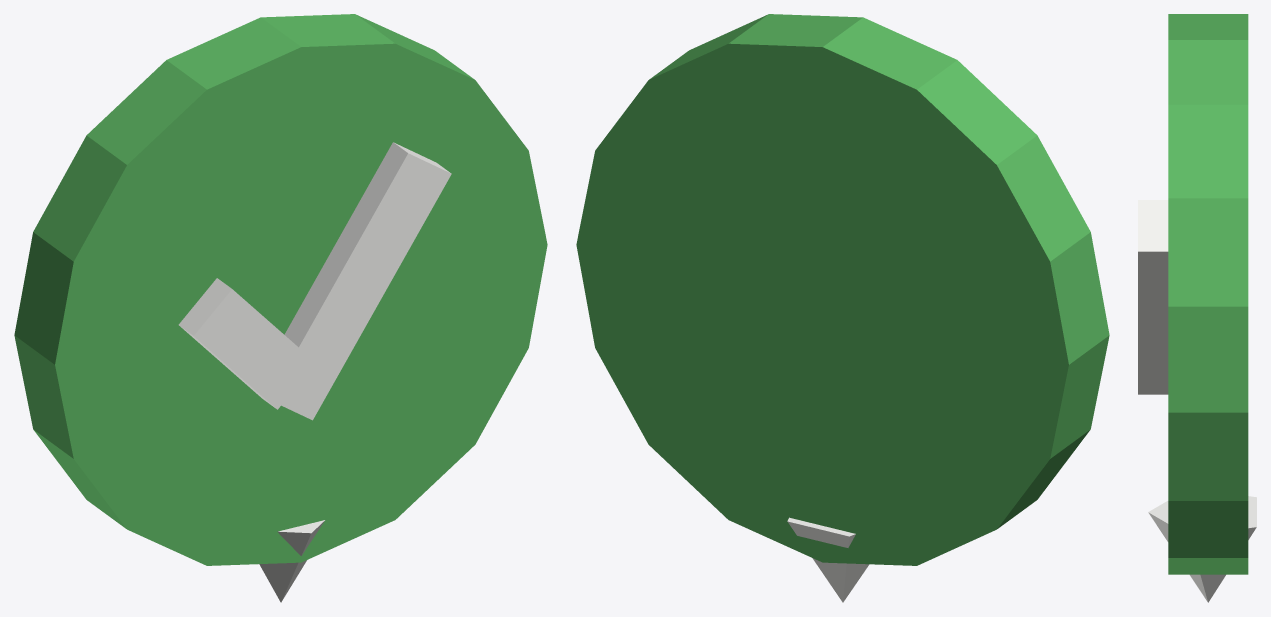
File: marker_check.glb
3 renders of one model, left to right at view 1: azimuth 30°, elevation 25°; view 2: azimuth 150°, elevation 25°; view 3: azimuth 270°, elevation 25°, orthographic.
Visible parts, largest first — view 1: marker_check_disc, marker_check; view 2: marker_check_disc, marker_check; view 3: marker_check_disc, marker_check.
Part boxes in pixels (x1,y1,x2,y2): marker_check_disc: (14,14,547,565); marker_check: (178,142,451,602); marker_check_disc: (576,14,1109,565); marker_check: (787,517,869,602); marker_check_disc: (1168,14,1248,574); marker_check: (1138,200,1256,602).
Size of the model in its own units: 0.28 by 0.31 by 0.0593.
Materials: 2 (1 with a texture image).
